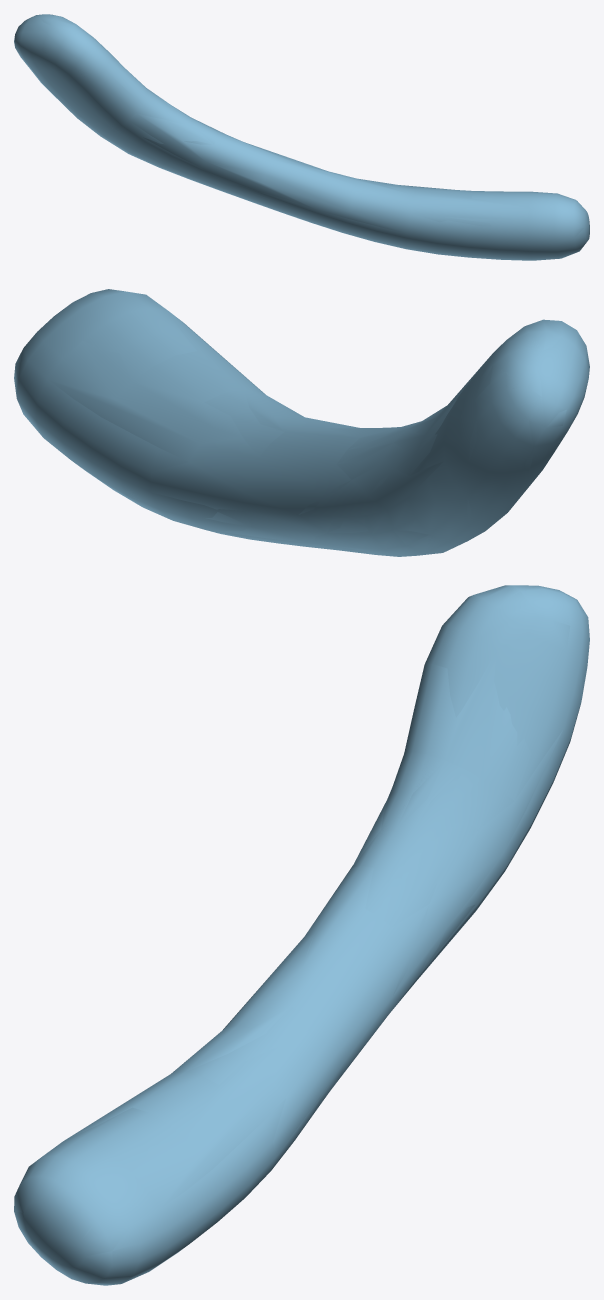
3 views of the same model, one above another, from view 1: azimuth 30°, elevation 25°; view 2: azimuth 150°, elevation 25°; view 3: azimuth 270°, elevation 25° (orthographic). The views are drawn at different scales.
Visible parts, largest first — view 1: CC R5, CC R5 low; view 2: CC R5, CC R5 low; view 3: CC R5 low, CC R5.
Part boxes in pixels (x1,y1,x2,y2): CC R5: [14, 14, 589, 260]; CC R5 low: [14, 15, 583, 259]; CC R5: [14, 289, 589, 556]; CC R5 low: [14, 290, 589, 554]; CC R5 low: [14, 585, 582, 1284]; CC R5: [14, 585, 589, 1285].
Size of the model in its own units: 11.67 by 6.16 by 8.17.
